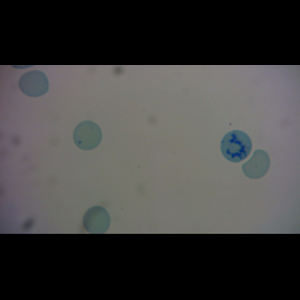aggregate reticulocyte: (220, 129, 254, 163)
erythrocyte: (241, 148, 271, 180), (18, 70, 49, 98), (82, 205, 111, 234)
punctate reticulocyte: (72, 119, 103, 152)
